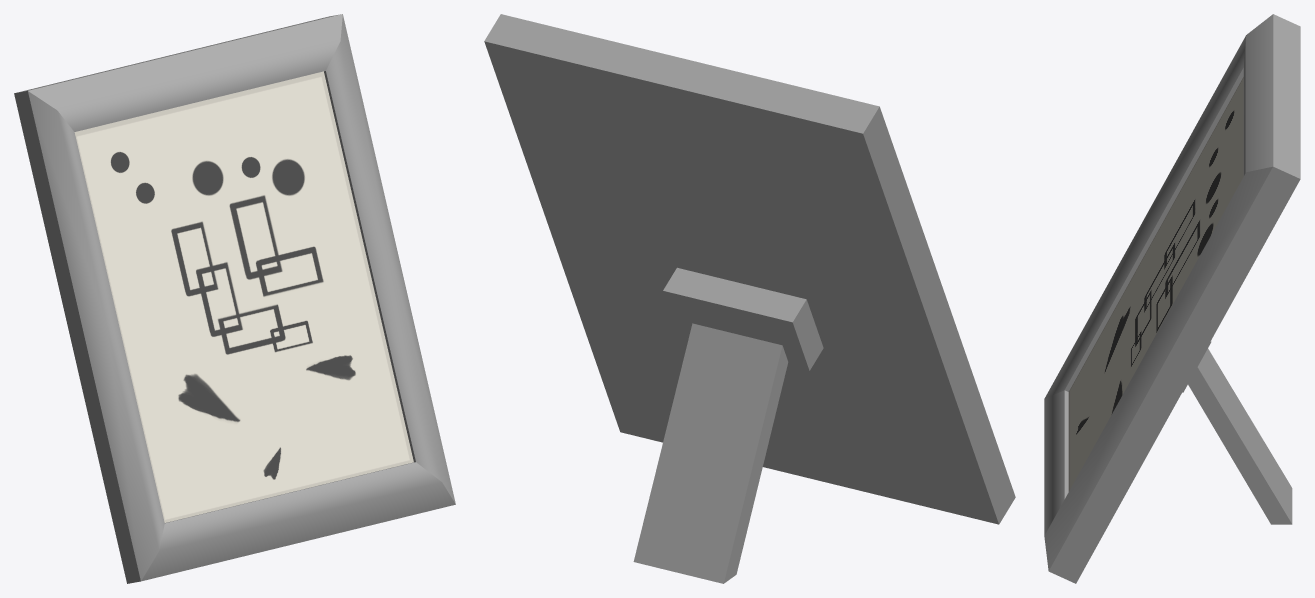
File: frame-WithCodePieces.fbx
3 views of the same model, side by side, from view 1: azimuth 30°, elevation 25°; view 2: azimuth 150°, elevation 25°; view 3: azimuth 270°, elevation 25° (orthographic). The views are drawn at different scales.
Visible parts, largest first — view 1: frameReference, codePiece2, codePiece3, codePiece4, codePiece1; view 2: frameReference; view 3: frameReference, codePiece3, codePiece1, codePiece2, codePiece4.
Boxes of the visible parts, left/top/right/bottom form: frameReference: left=14, top=14, right=455, bottom=583; codePiece2: left=118, top=71, right=360, bottom=290; codePiece3: left=139, top=291, right=328, bottom=522; codePiece4: left=241, top=230, right=413, bottom=482; codePiece1: left=74, top=121, right=241, bottom=410; frameReference: left=484, top=14, right=1015, bottom=583; frameReference: left=1044, top=14, right=1300, bottom=583; codePiece3: left=1068, top=286, right=1160, bottom=471; codePiece1: left=1119, top=77, right=1243, bottom=300; codePiece2: left=1161, top=100, right=1243, bottom=308; codePiece4: left=1068, top=286, right=1169, bottom=491.
Bounding box in the file's own units: 7.79 × 9.93 × 5.53.
